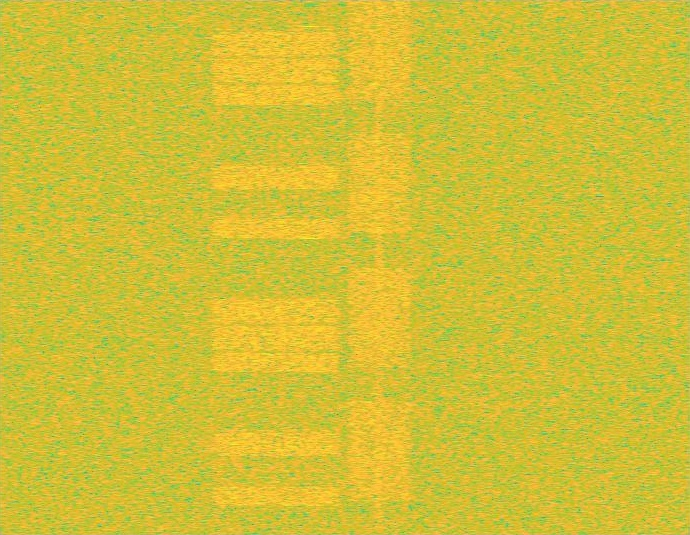5G: (345, 0, 414, 534)
DSSS: (375, 0, 384, 534)
LTE: (207, 0, 345, 534)
Radar: (303, 0, 317, 534)
